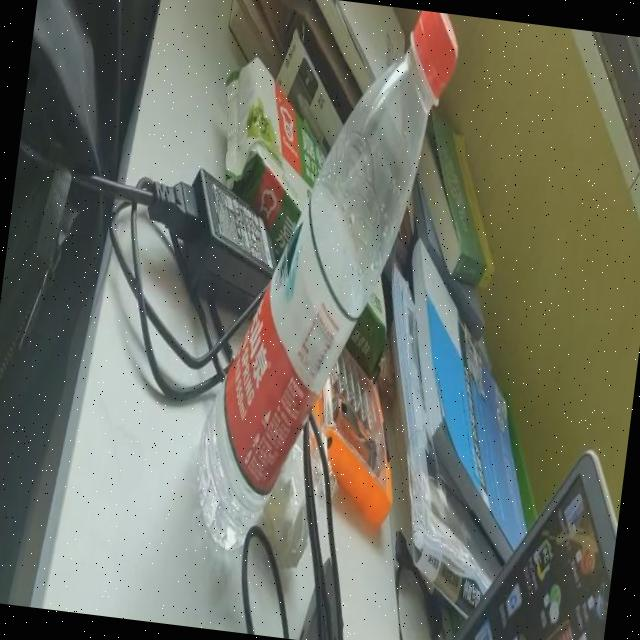bottle: (188, 0, 463, 577)
cap: (388, 7, 472, 100)
label: (206, 193, 370, 536)
